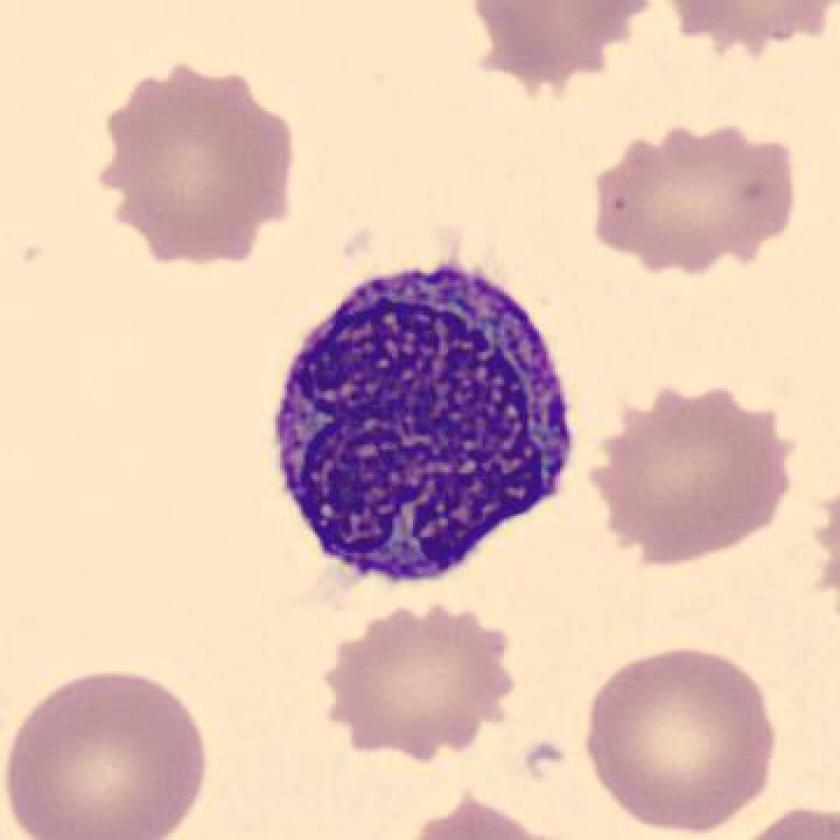monocyte: (253, 247, 594, 601)
